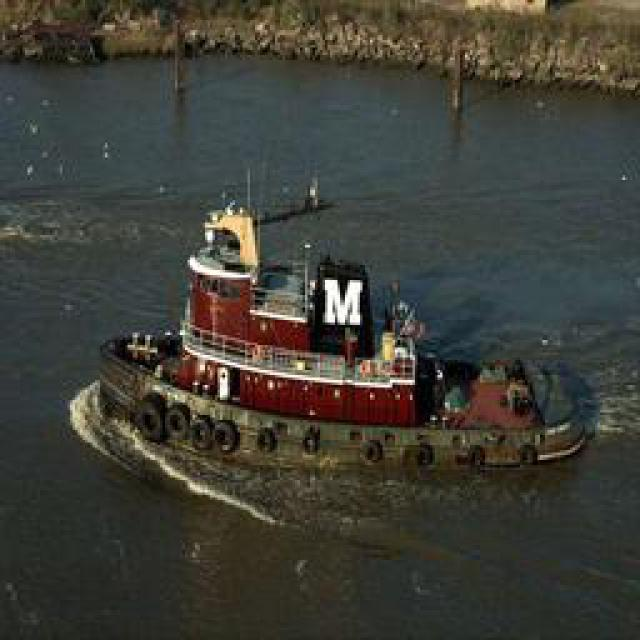Ship: (92, 202, 600, 499)
